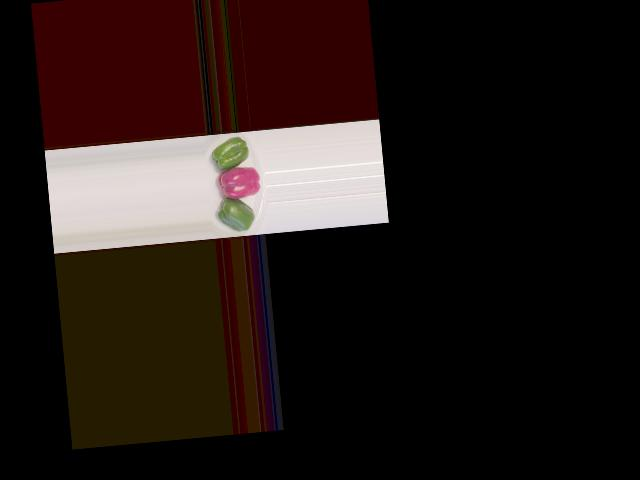bell_pepper: (212, 195, 260, 235)
